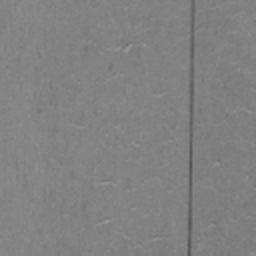Scratches: (187, 0, 196, 256)
